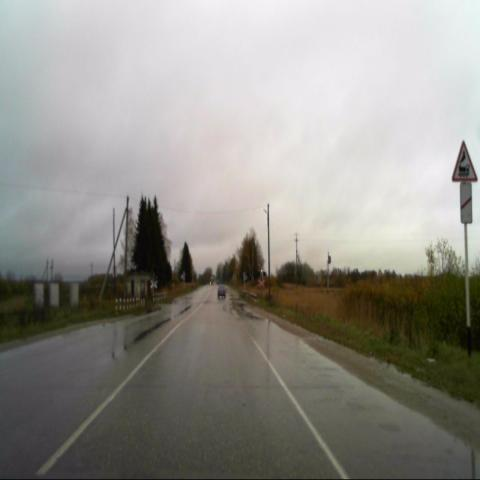1_2: (450, 138, 478, 182)
